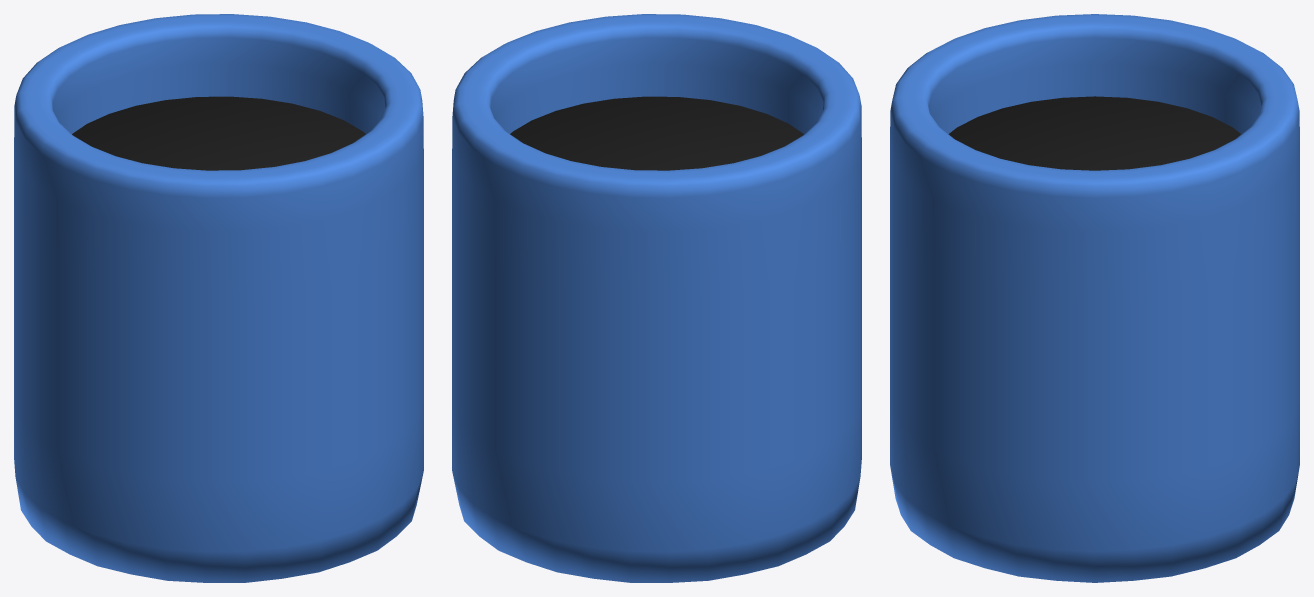
The model's file is RawMat_Oil.fbx.
3 views of the same model, side by side, from view 1: azimuth 30°, elevation 25°; view 2: azimuth 150°, elevation 25°; view 3: azimuth 270°, elevation 25° (orthographic).
Parts seen in each view (by area): view 1: Canister, Oil Liquid; view 2: Canister, Oil Liquid; view 3: Canister, Oil Liquid.
Boxes of the visible parts, x1,y1,x2,y2 form: Canister: (14,14,423,582); Oil Liquid: (72,96,365,170); Canister: (452,14,861,582); Oil Liquid: (510,96,803,170); Canister: (890,14,1299,582); Oil Liquid: (948,96,1241,170).
Size of the model in its own units: 536 by 599 by 536.
